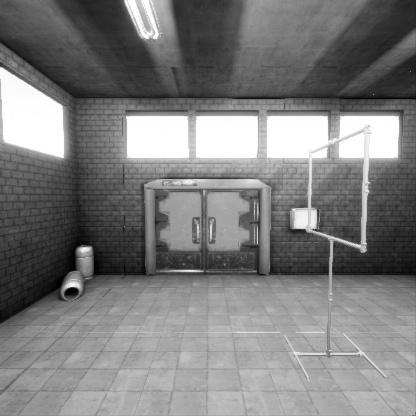gate: (307, 169, 372, 297)
